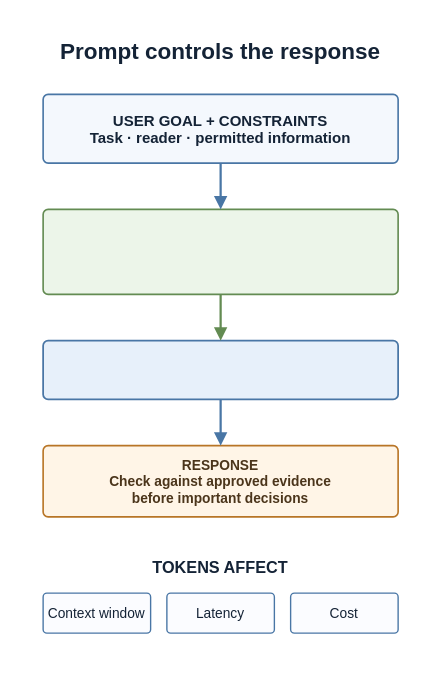
The diagram is 441 pixels wide and 681 high, and some of its shapes have lost their labels. Each missing label, with the centre of its shape:
"FOUNDATION MODEL" belongs at (x=220, y=369).
"PROMPT + CONTEXT Audience · output format · constraints Approved sources only" belongs at (x=220, y=251).
